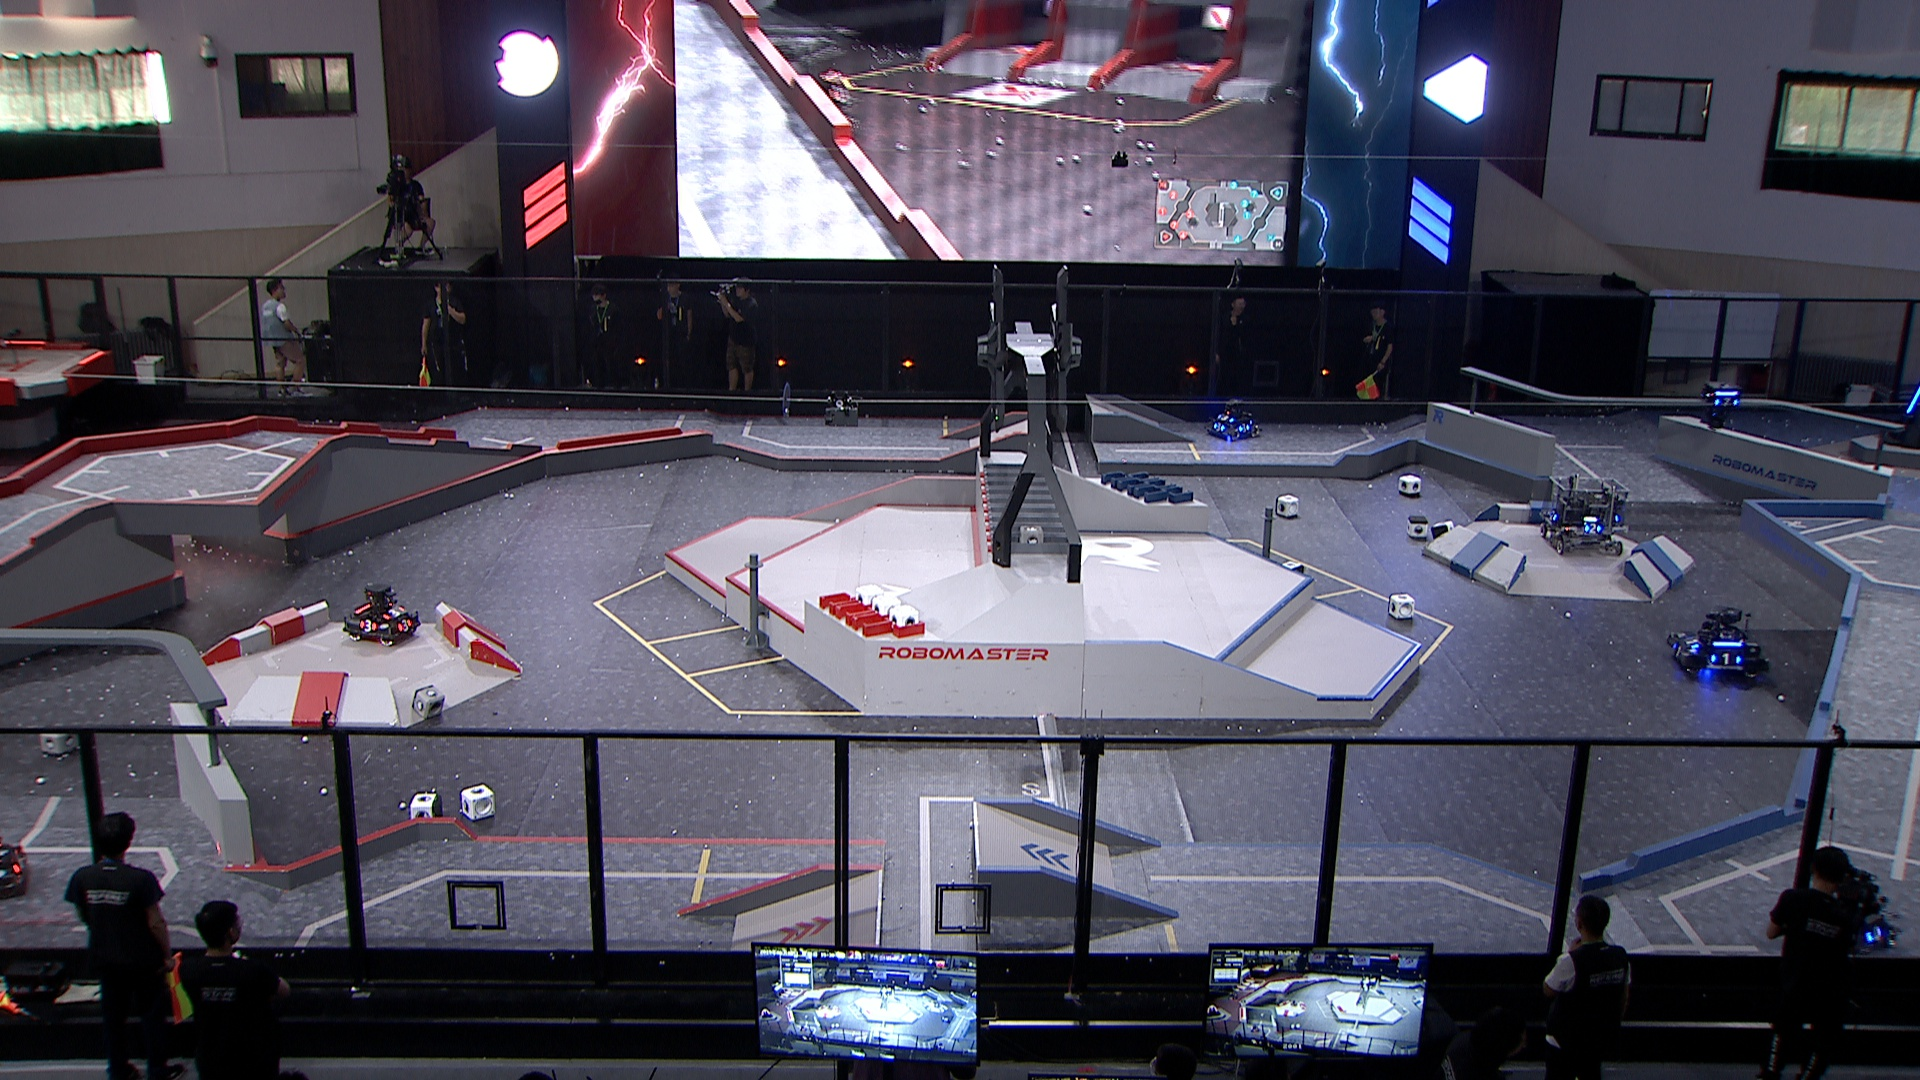armor: (1709, 651, 1742, 669), (1902, 385, 1920, 414), (381, 604, 406, 618), (1684, 633, 1702, 651), (356, 617, 378, 632), (396, 616, 415, 632), (1865, 924, 1883, 940), (1584, 522, 1604, 535), (1544, 506, 1560, 522), (1714, 398, 1737, 409), (1671, 642, 1683, 661), (1215, 413, 1234, 422), (1212, 423, 1228, 433), (1240, 423, 1251, 433)
base: (1875, 356, 1920, 455)
car: (1788, 864, 1902, 956), (1536, 469, 1633, 555), (1667, 604, 1768, 679), (339, 580, 419, 645), (1207, 398, 1265, 442)
ignore: (760, 22, 858, 142)
watcher: (1702, 380, 1743, 433)
